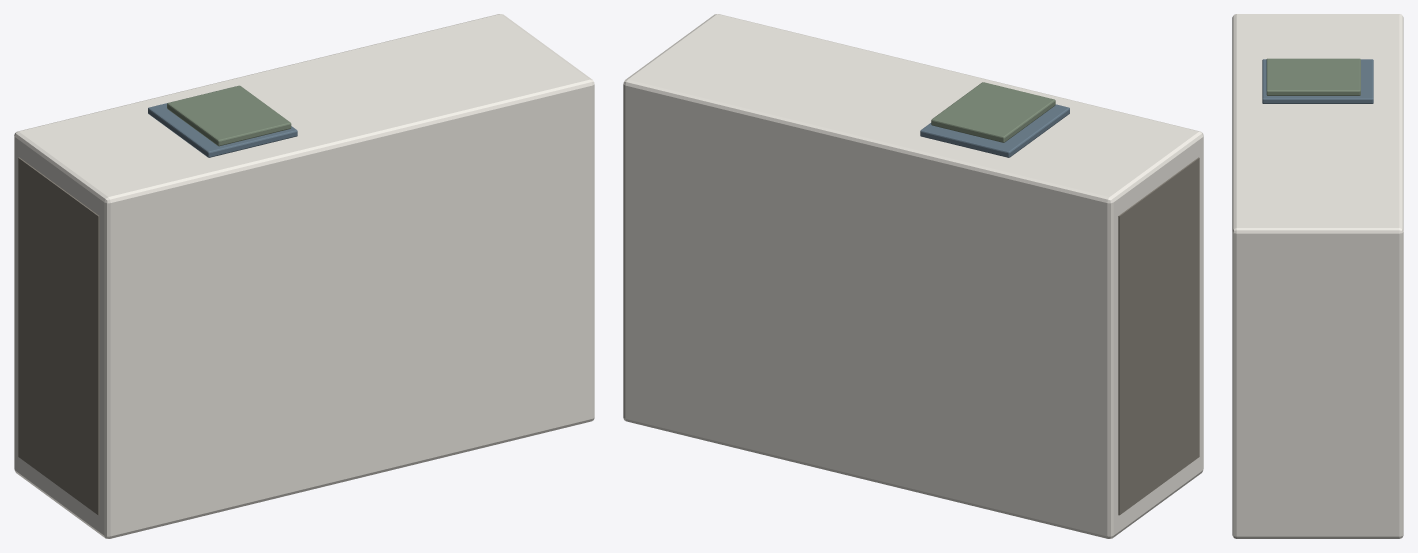
The model's file is lowCabinet.glb.
The picture shows the model from 3 angles, left to right: view 1: azimuth 30°, elevation 25°; view 2: azimuth 150°, elevation 25°; view 3: azimuth 270°, elevation 25°; orthographic projection. The views are drawn at different scales.
Visible parts, largest first — view 1: body.005, div0, pic2, pic1; view 2: body.005, div0, pic2, pic1; view 3: body.005, pic2, pic1.
Boxes of the visible parts, <box> form: body.005: <box>14,14,594,538</box>; div0: <box>18,157,99,515</box>; pic2: <box>167,85,291,146</box>; pic1: <box>148,103,297,157</box>; body.005: <box>623,14,1203,538</box>; div0: <box>1118,157,1199,515</box>; pic2: <box>931,82,1055,142</box>; pic1: <box>920,104,1069,157</box>; body.005: <box>1232,14,1403,538</box>; pic2: <box>1266,58,1360,95</box>; pic1: <box>1262,59,1373,103</box>.
Size of the model in its own units: 1.2 by 0.8315 by 0.4.
